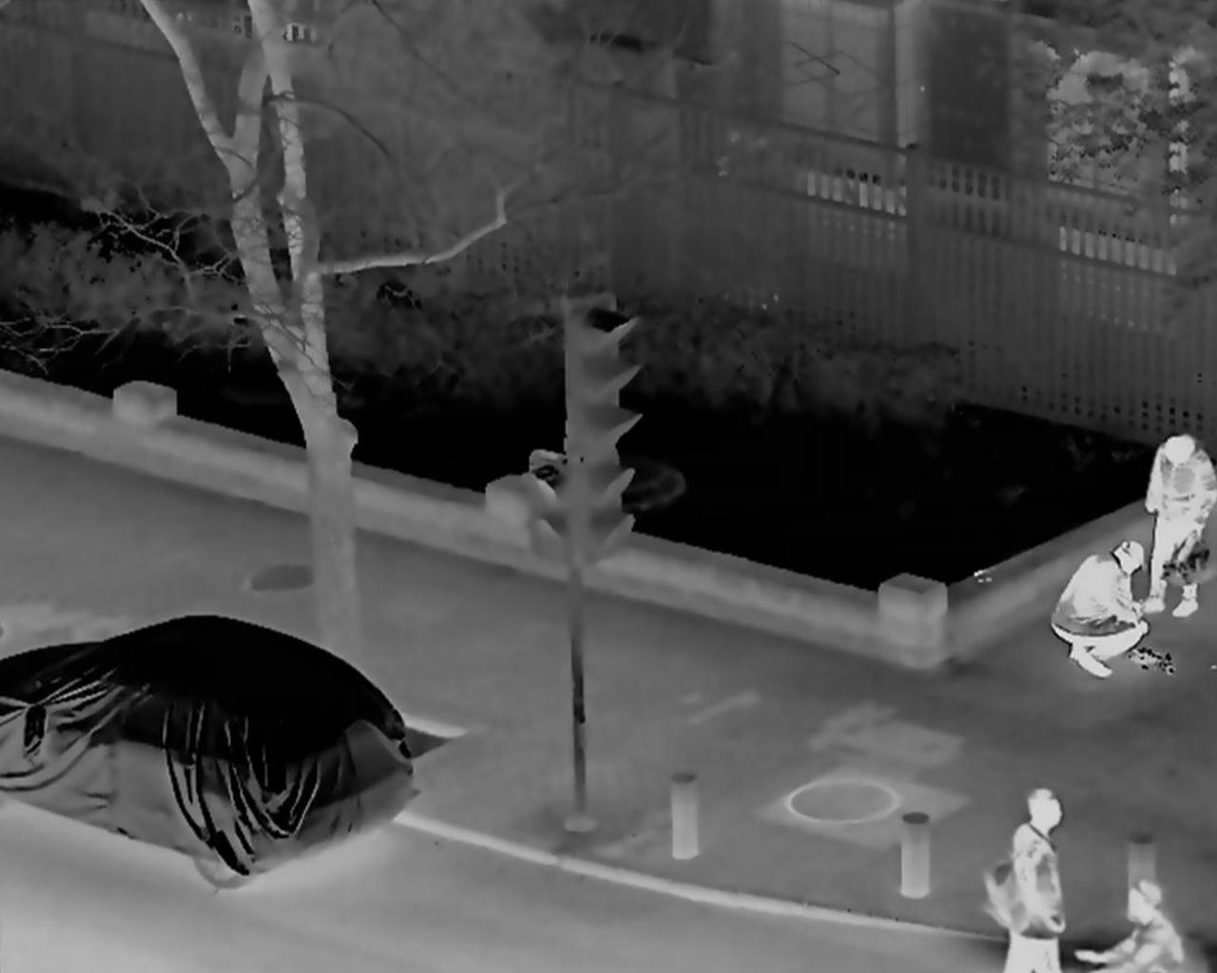person: (989, 787, 1067, 973), (1144, 433, 1214, 618), (1049, 542, 1144, 677), (1075, 877, 1189, 973)
